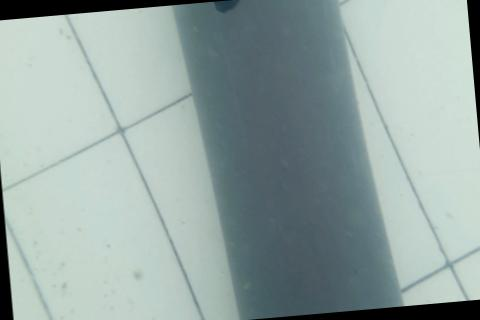kebocoran: (212, 0, 244, 18)
